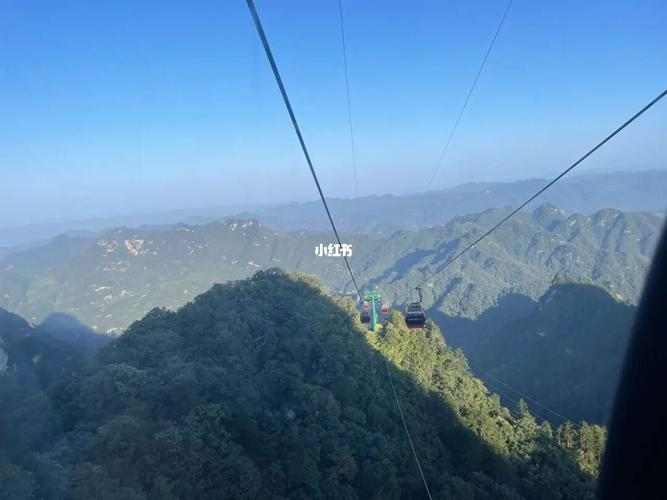mountain: (56, 290, 535, 499), (394, 211, 646, 404), (48, 219, 386, 325)
sky_cloud: (9, 77, 661, 173)
